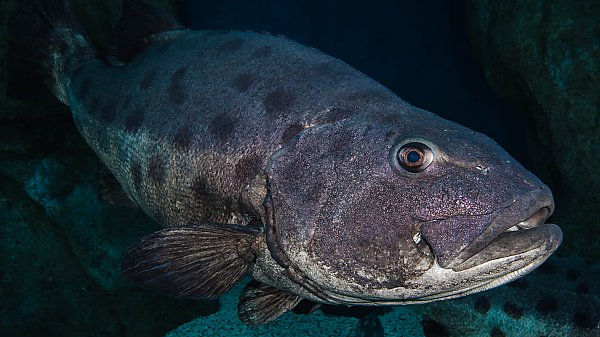Giant Bass: (23, 5, 588, 320)
